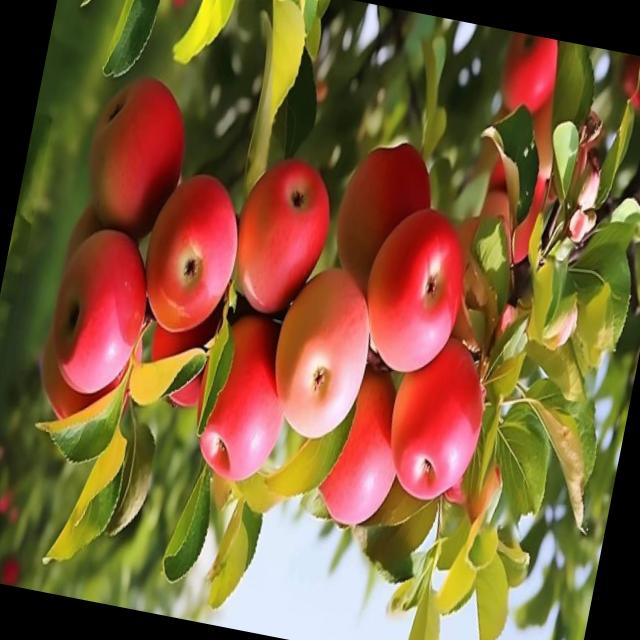Tao: (228, 105, 348, 314), (322, 117, 451, 303), (186, 290, 306, 488), (263, 264, 382, 447), (40, 212, 156, 390), (383, 340, 497, 520), (84, 50, 199, 223), (359, 206, 480, 370), (310, 362, 414, 534), (134, 171, 238, 342), (132, 288, 232, 434), (495, 34, 562, 121)
